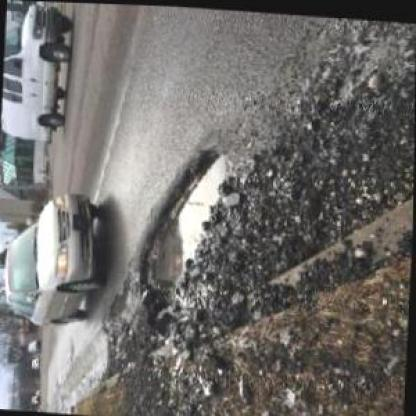pothole: (133, 140, 232, 307), (103, 276, 133, 324)
